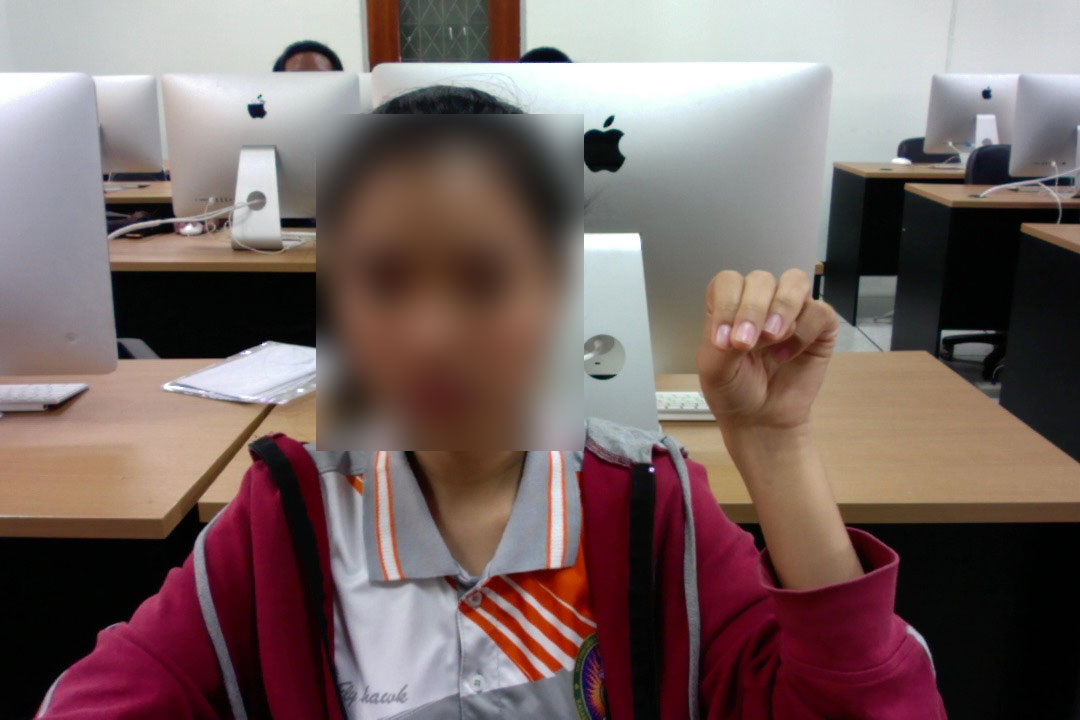mor: (692, 250, 844, 457)
